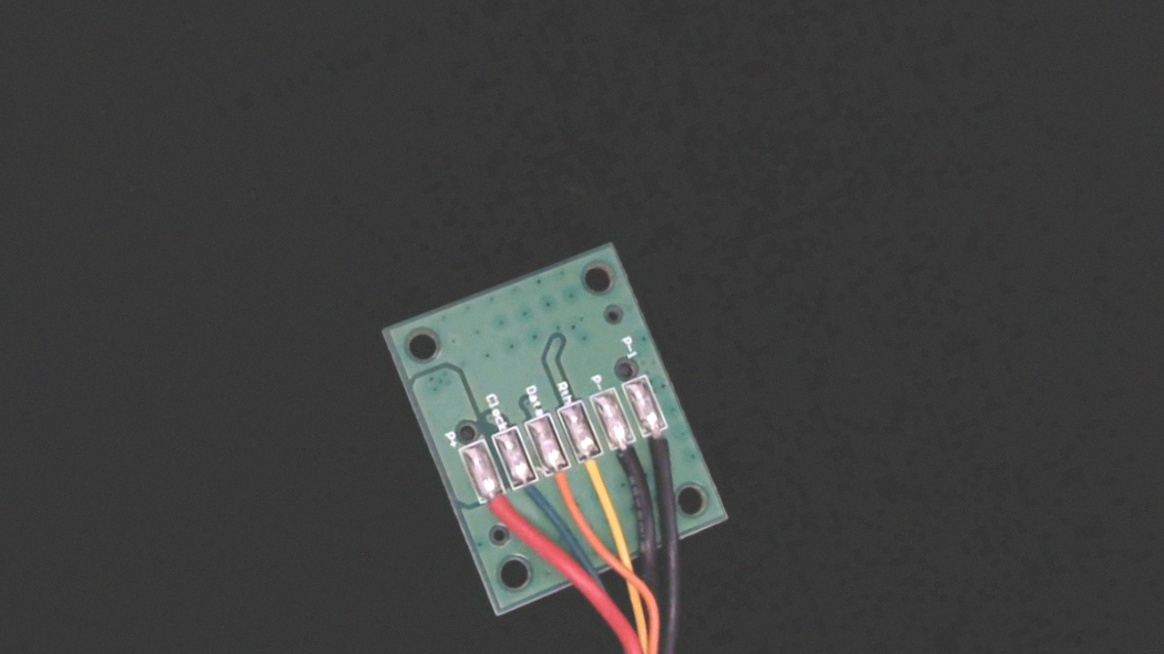Black: (603, 426, 657, 500)
Black1: (638, 413, 689, 483)
Green: (506, 463, 553, 526)
Orange: (539, 451, 590, 524)
Red: (471, 478, 524, 551)
Yellow: (569, 440, 623, 515)
